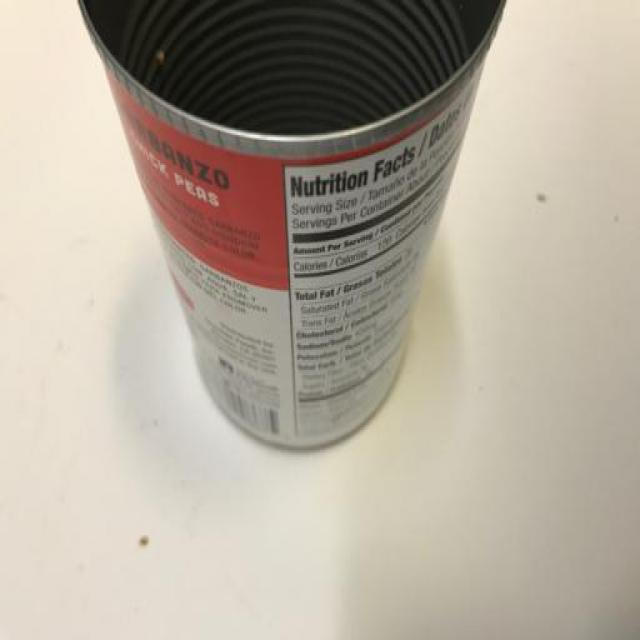metel: (62, 1, 543, 468)
